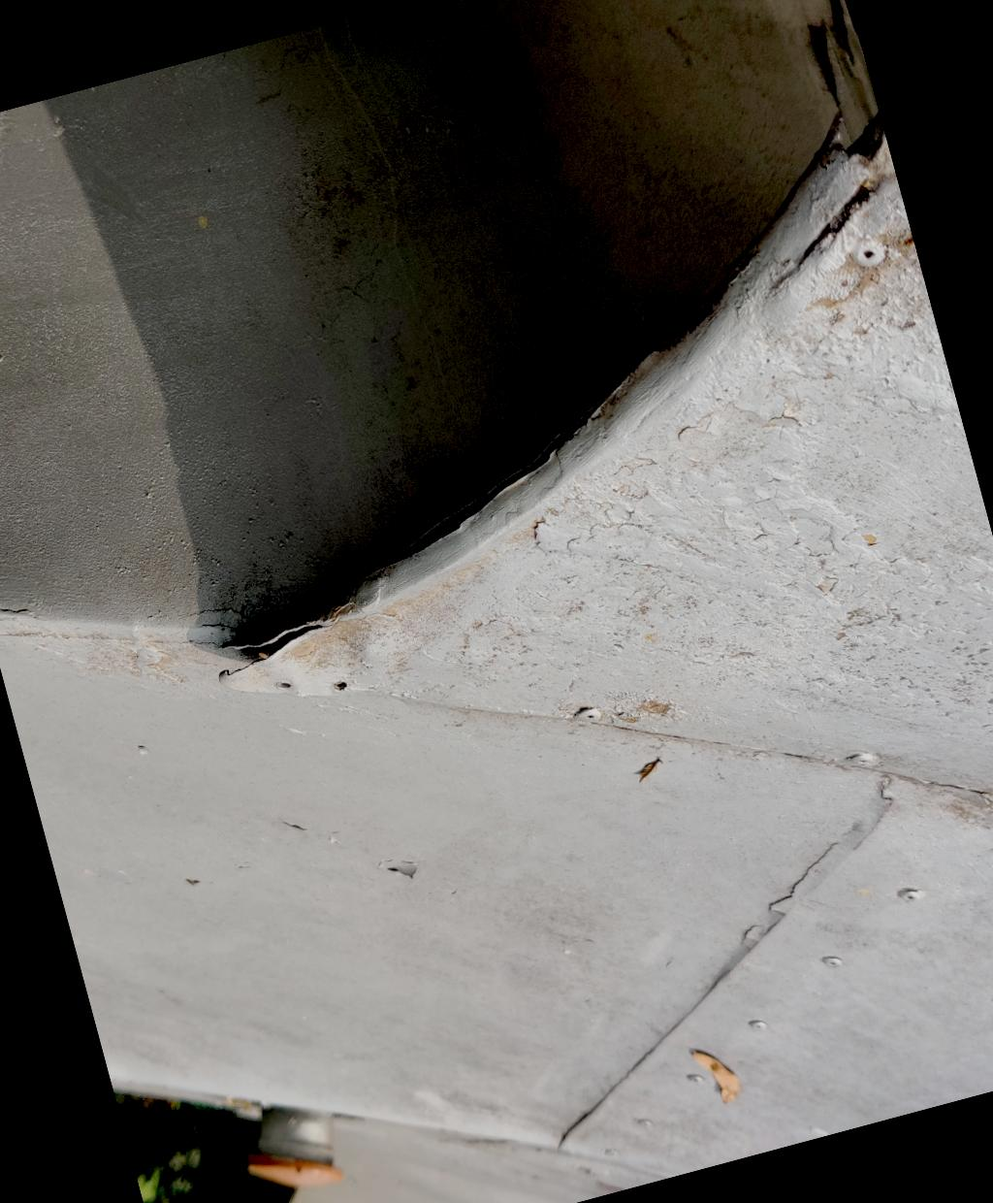crack: (718, 155, 929, 345), (194, 581, 359, 700)
